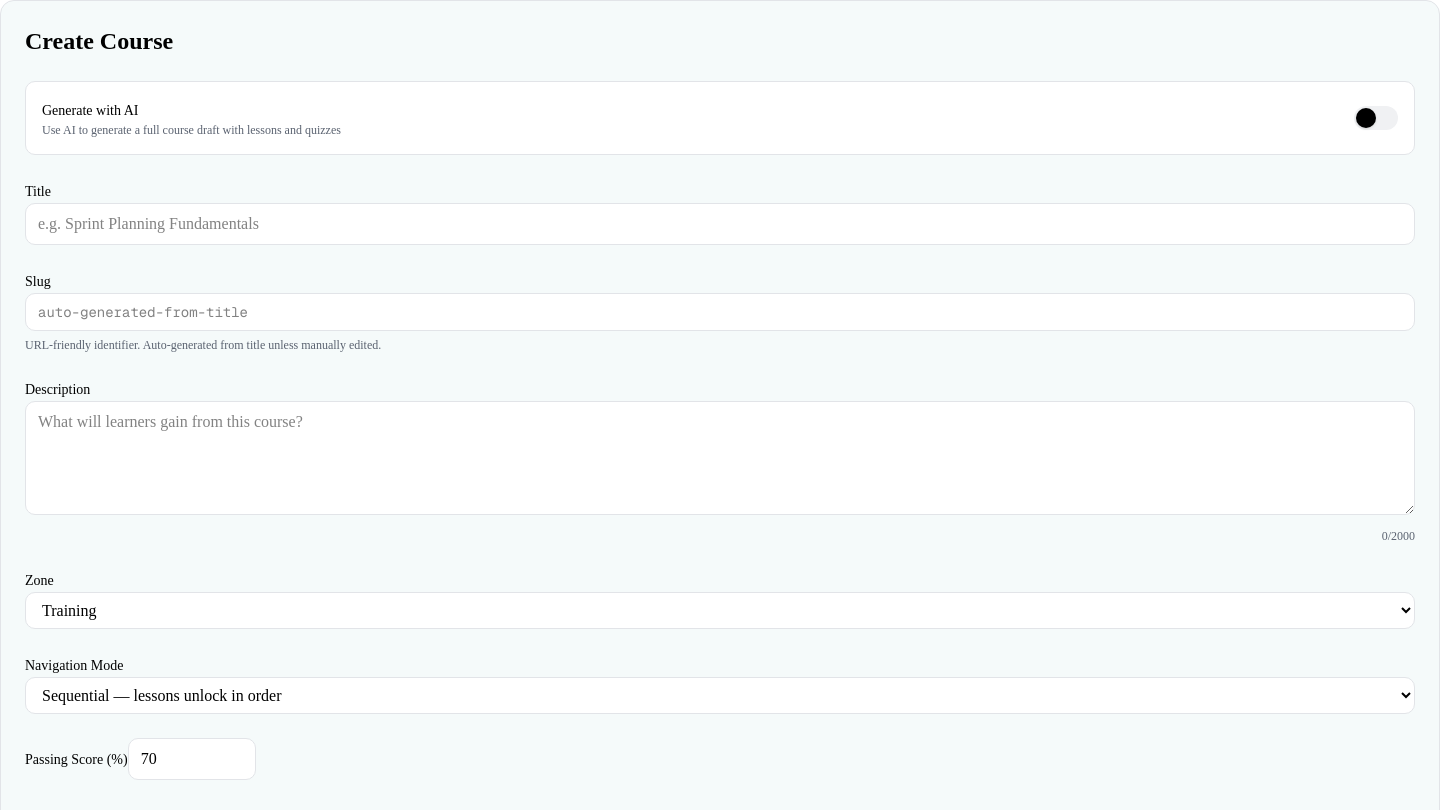
it: CourseForm › Create mode (no course prop) › handles API validation errors
The width and height of the screenshot is (1440, 810).
Type "X" into the field labelled "Title" at point(720, 224), box [25,203,1415,245]
(page scrolled)
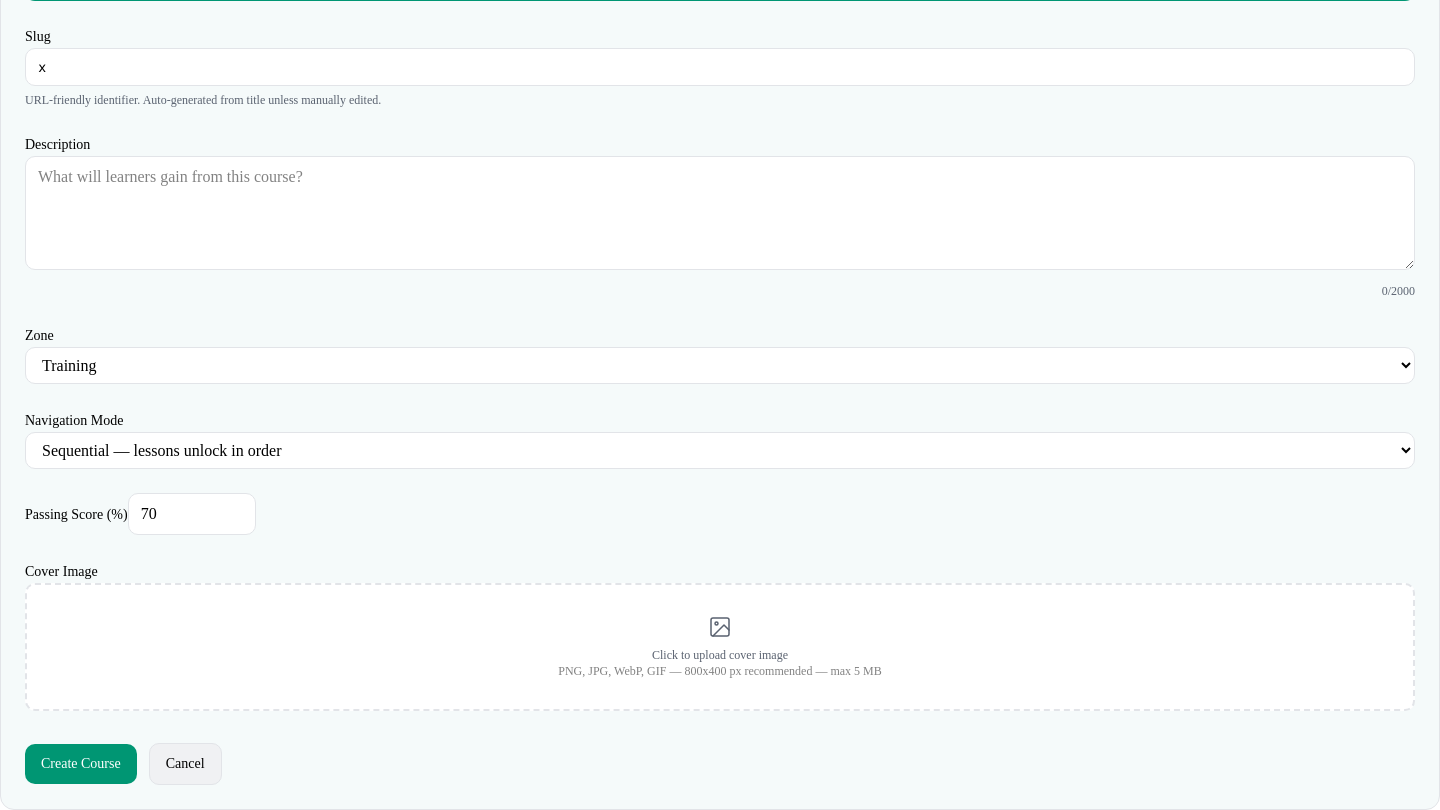
Click the button "Create Course" at point(81, 764), box [25,744,137,784]
(page scrolled)
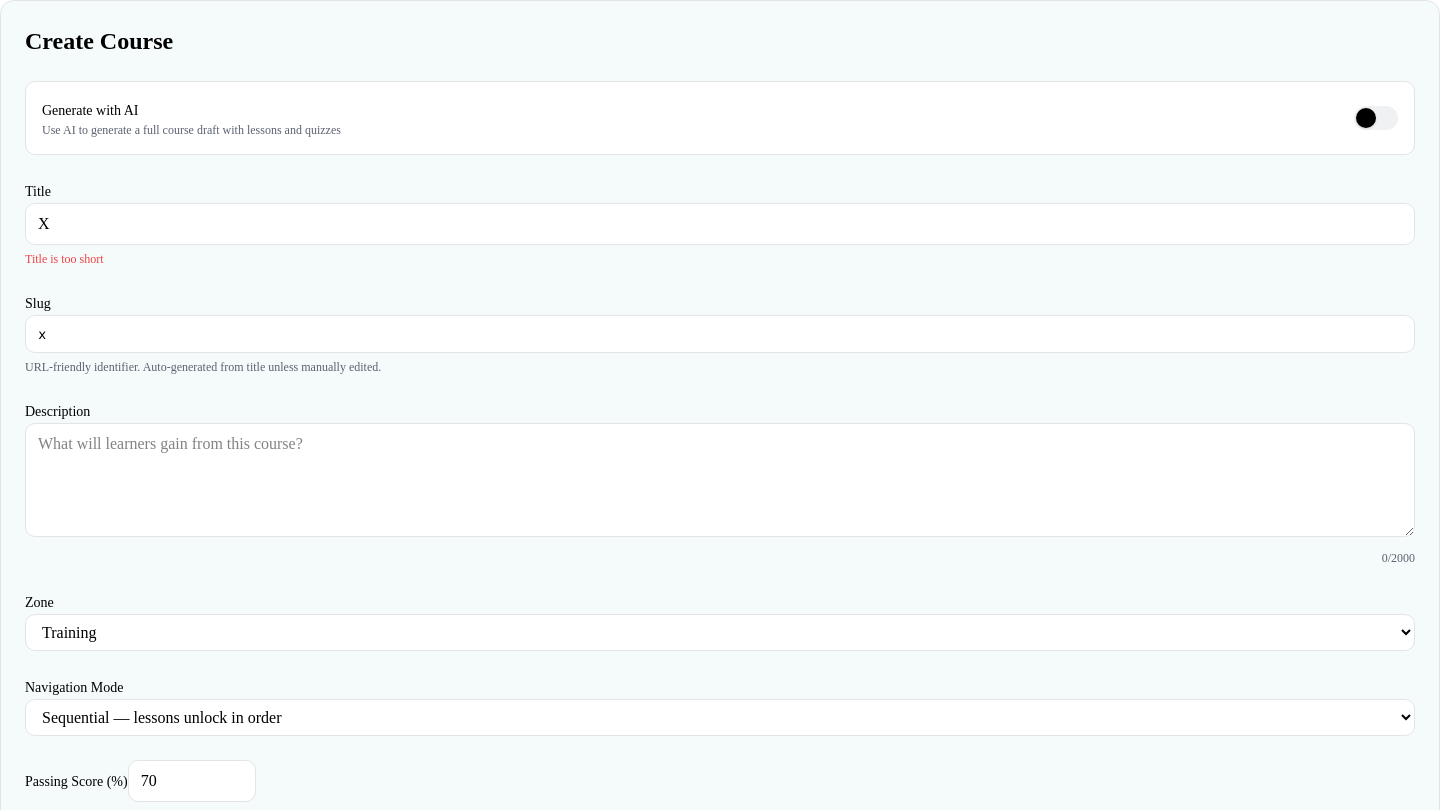
Expected: the text "Title is too short" is shown, [25,252,104,266]
